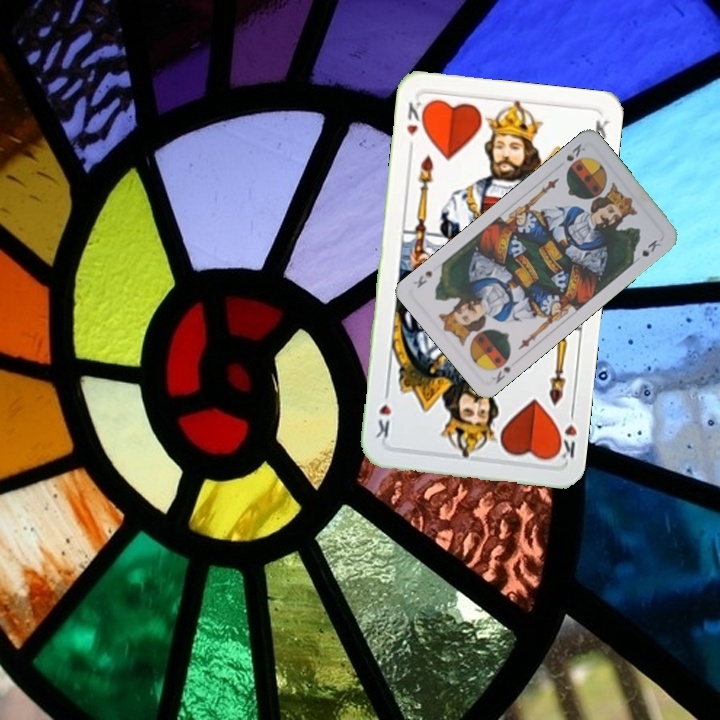HK: (551, 404, 580, 461), (402, 97, 429, 154)
SK: (562, 139, 588, 164), (488, 362, 514, 386)
